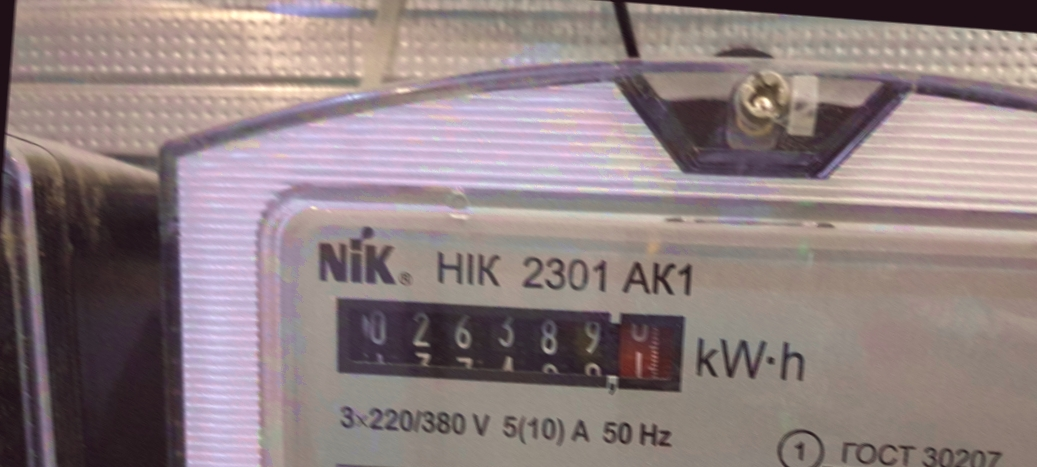0: (365, 308, 391, 349), (630, 323, 649, 345)
1: (631, 350, 646, 382)
2: (409, 310, 435, 351)
3: (496, 316, 516, 351)
6: (453, 312, 474, 353)
8: (538, 319, 562, 358)
9: (582, 321, 602, 356)
screen: (317, 279, 703, 413)
